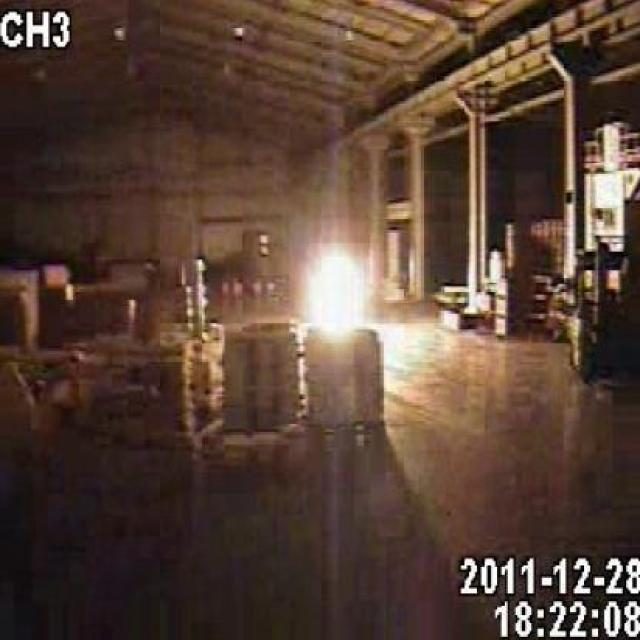smoke: (306, 243, 364, 338)
